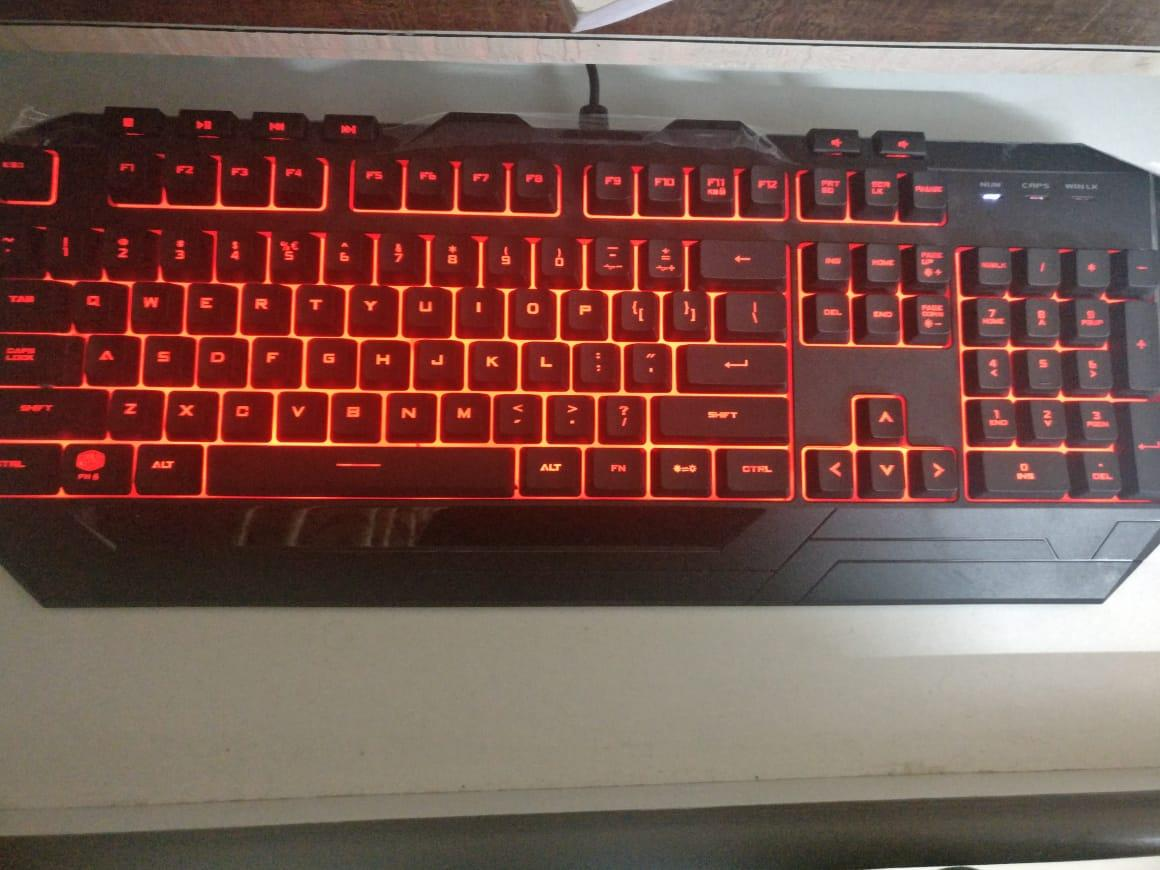keyboard: (1, 84, 1160, 634)
